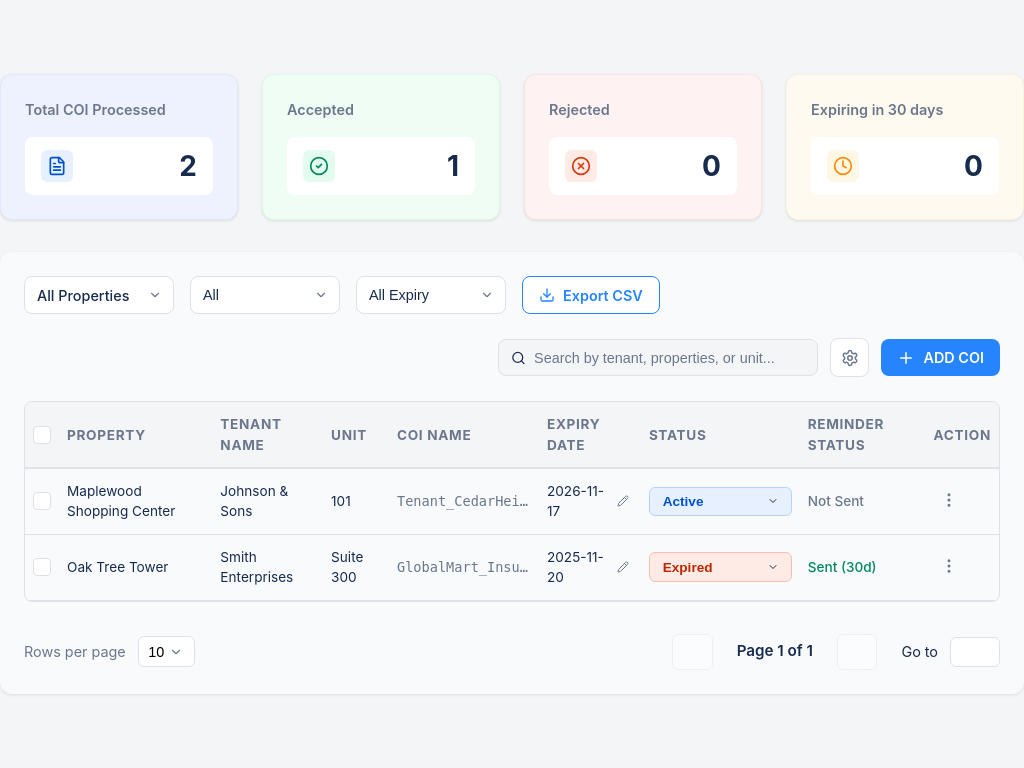
Test case: Dashboard Search › filters table rows based on search input
The image size is (1024, 768).
Type "Johnson" into the field with placeholder "Search by tenant, properties, or unit...". click: (670, 358)
box: [534, 350, 805, 366]
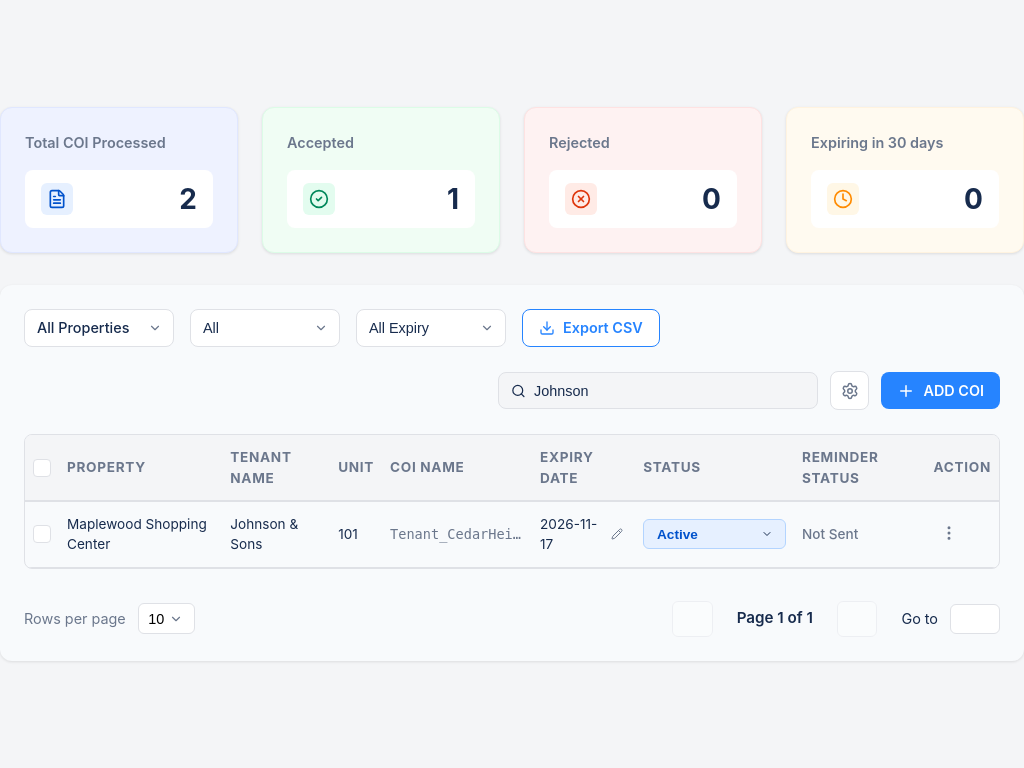
Expected: the text "Johnson & Sons" is shown, [222, 501, 330, 567]
Result: the text "Smith Enterprises" is gone
